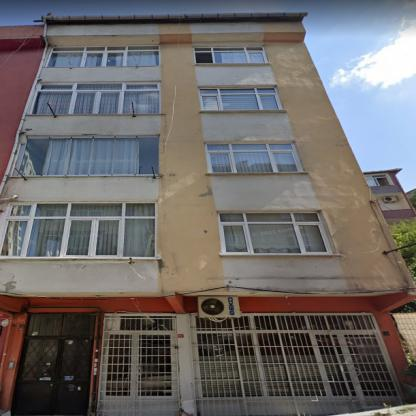door: (12, 337, 91, 415), (341, 334, 401, 410), (134, 333, 176, 415)
window: (196, 315, 376, 397), (0, 203, 155, 257), (14, 136, 158, 176), (220, 212, 328, 253), (31, 83, 160, 114), (207, 142, 299, 172), (46, 45, 158, 67), (198, 87, 279, 110), (105, 335, 130, 395), (27, 314, 93, 336), (192, 47, 266, 63), (120, 316, 175, 330), (364, 174, 393, 187)
